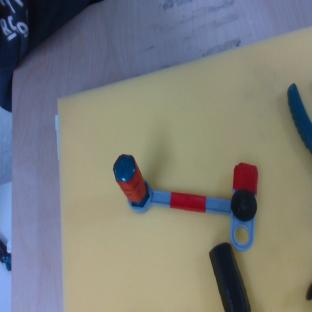non_pass: (204, 240, 253, 312)
pass: (108, 154, 260, 252)
